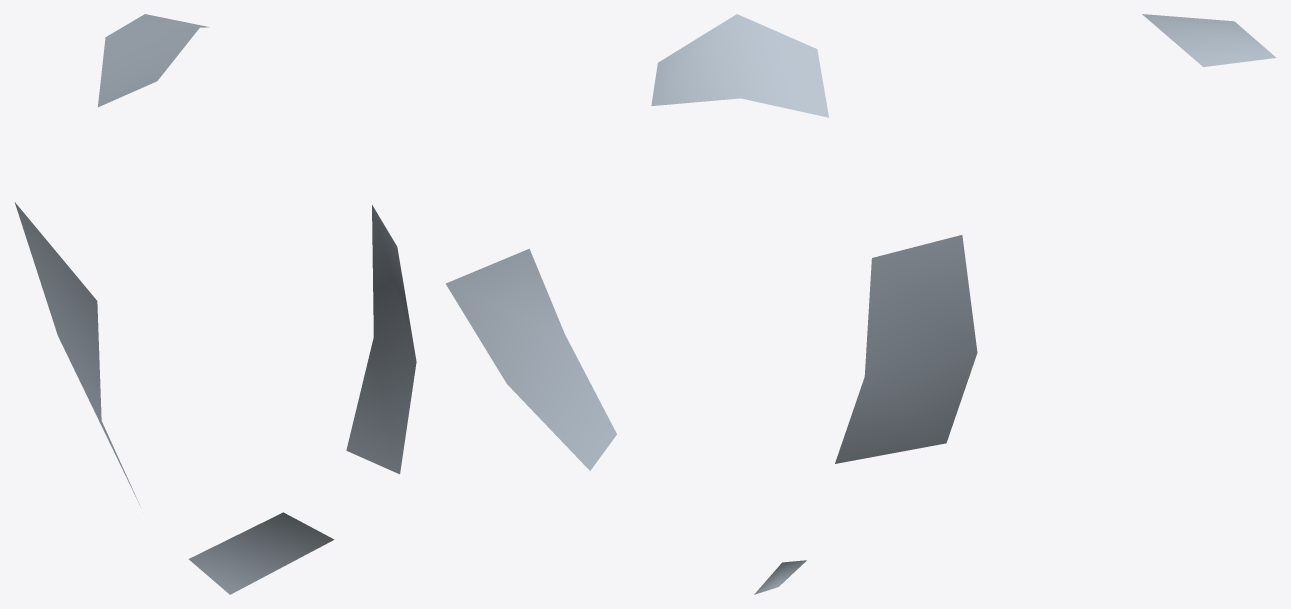
File: pisotriquetral-ligament-r.glb
3 renders of one model, left to right at view 1: azimuth 30°, elevation 25°; view 2: azimuth 150°, elevation 25°; view 3: azimuth 270°, elevation 25°, orthographic. The views are drawn at different scales.
Parts seen in each view (by area): view 1: Pisotriquetral ligament.r; view 2: Pisotriquetral ligament.r; view 3: Pisotriquetral ligament.r.
Part boxes in pixels (bbox=[...]): Pisotriquetral ligament.r: bbox=[14, 14, 416, 594]; Pisotriquetral ligament.r: bbox=[446, 14, 977, 594]; Pisotriquetral ligament.r: bbox=[1142, 14, 1276, 66].
Size of the model in its own units: 0.00711 by 0.00981 by 0.00435.
